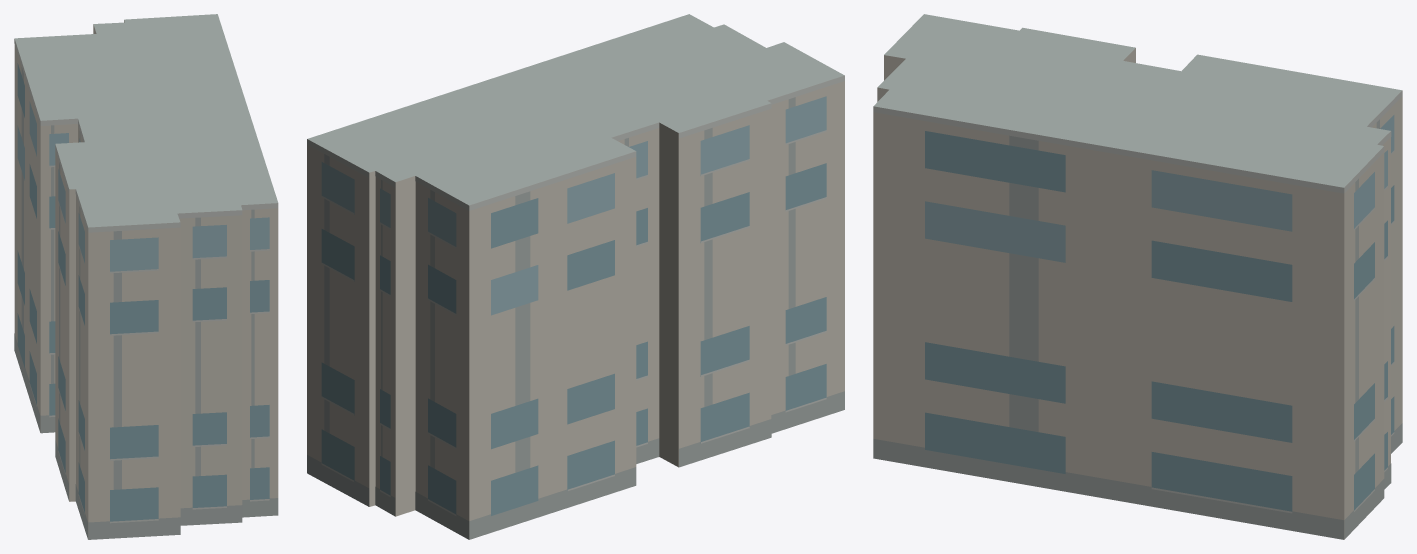
File: survey-upis-32768152.glb
The picture shows the model from 3 angles, left to right: view 1: azimuth 30°, elevation 25°; view 2: azimuth 150°, elevation 25°; view 3: azimuth 270°, elevation 25°; orthographic projection. The views are drawn at different scales.
Visible parts, largest first — view 1: survey-upis-32768152.tmp; view 2: survey-upis-32768152.tmp; view 3: survey-upis-32768152.tmp.
Part boxes in pixels (left/top/right/bottom): survey-upis-32768152.tmp: left=14, top=14, right=278, bottom=539; survey-upis-32768152.tmp: left=307, top=14, right=844, bottom=539; survey-upis-32768152.tmp: left=873, top=14, right=1402, bottom=539.
Bounding box in the file's own units: 15.52 × 14.65 × 19.96.
